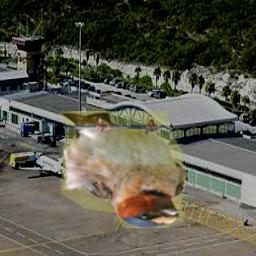Swallow: (59, 111, 189, 228)
